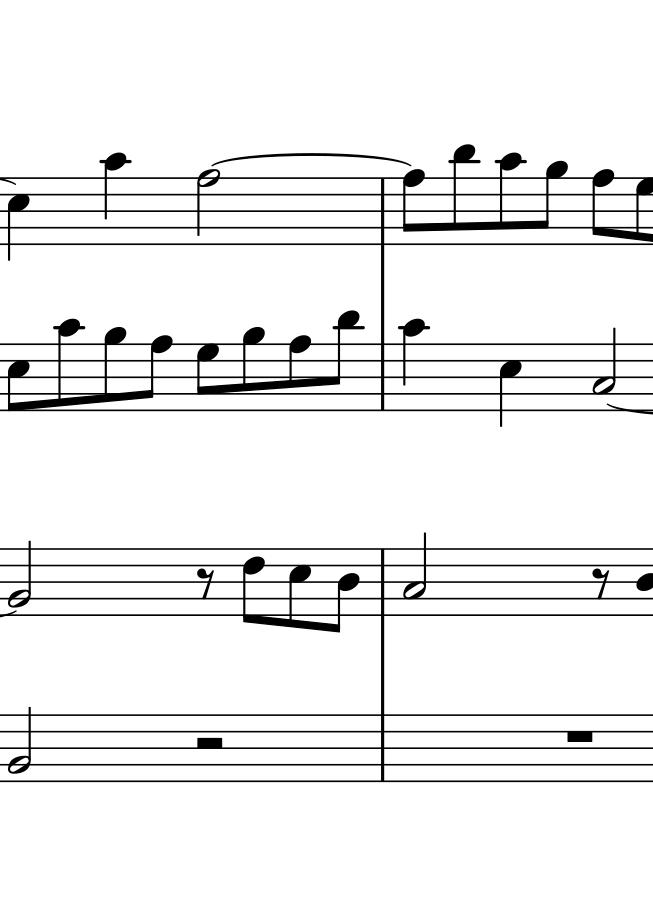2_2: (7, 705, 34, 781), (7, 539, 33, 616), (592, 330, 617, 410)
2_3: (401, 532, 429, 616)
2_6: (195, 169, 220, 245)
4_10: (400, 318, 427, 414)
4_5: (5, 177, 32, 262), (498, 343, 522, 429)
8_10: (52, 318, 81, 413), (102, 151, 127, 248), (498, 152, 523, 247)
8_11: (328, 306, 360, 415), (452, 141, 479, 248)
8_3: (287, 547, 312, 630)
8_4: (330, 548, 360, 636)
8_5: (6, 342, 31, 414)
8_6: (240, 548, 266, 626)
8_7: (195, 342, 220, 412), (634, 177, 652, 247)
8_8: (142, 333, 172, 413), (591, 168, 615, 247), (287, 334, 311, 413), (401, 169, 425, 247)
8_9: (538, 161, 568, 247), (103, 326, 127, 413), (241, 325, 265, 412)
Brace: (210, 152, 411, 169)
Rests1: (562, 727, 596, 745)
Rests2: (193, 736, 225, 751)
Rests8: (591, 566, 612, 599), (196, 566, 216, 599)
Single_barline: (375, 178, 392, 245), (375, 714, 391, 782), (375, 344, 391, 410), (377, 551, 391, 616)
